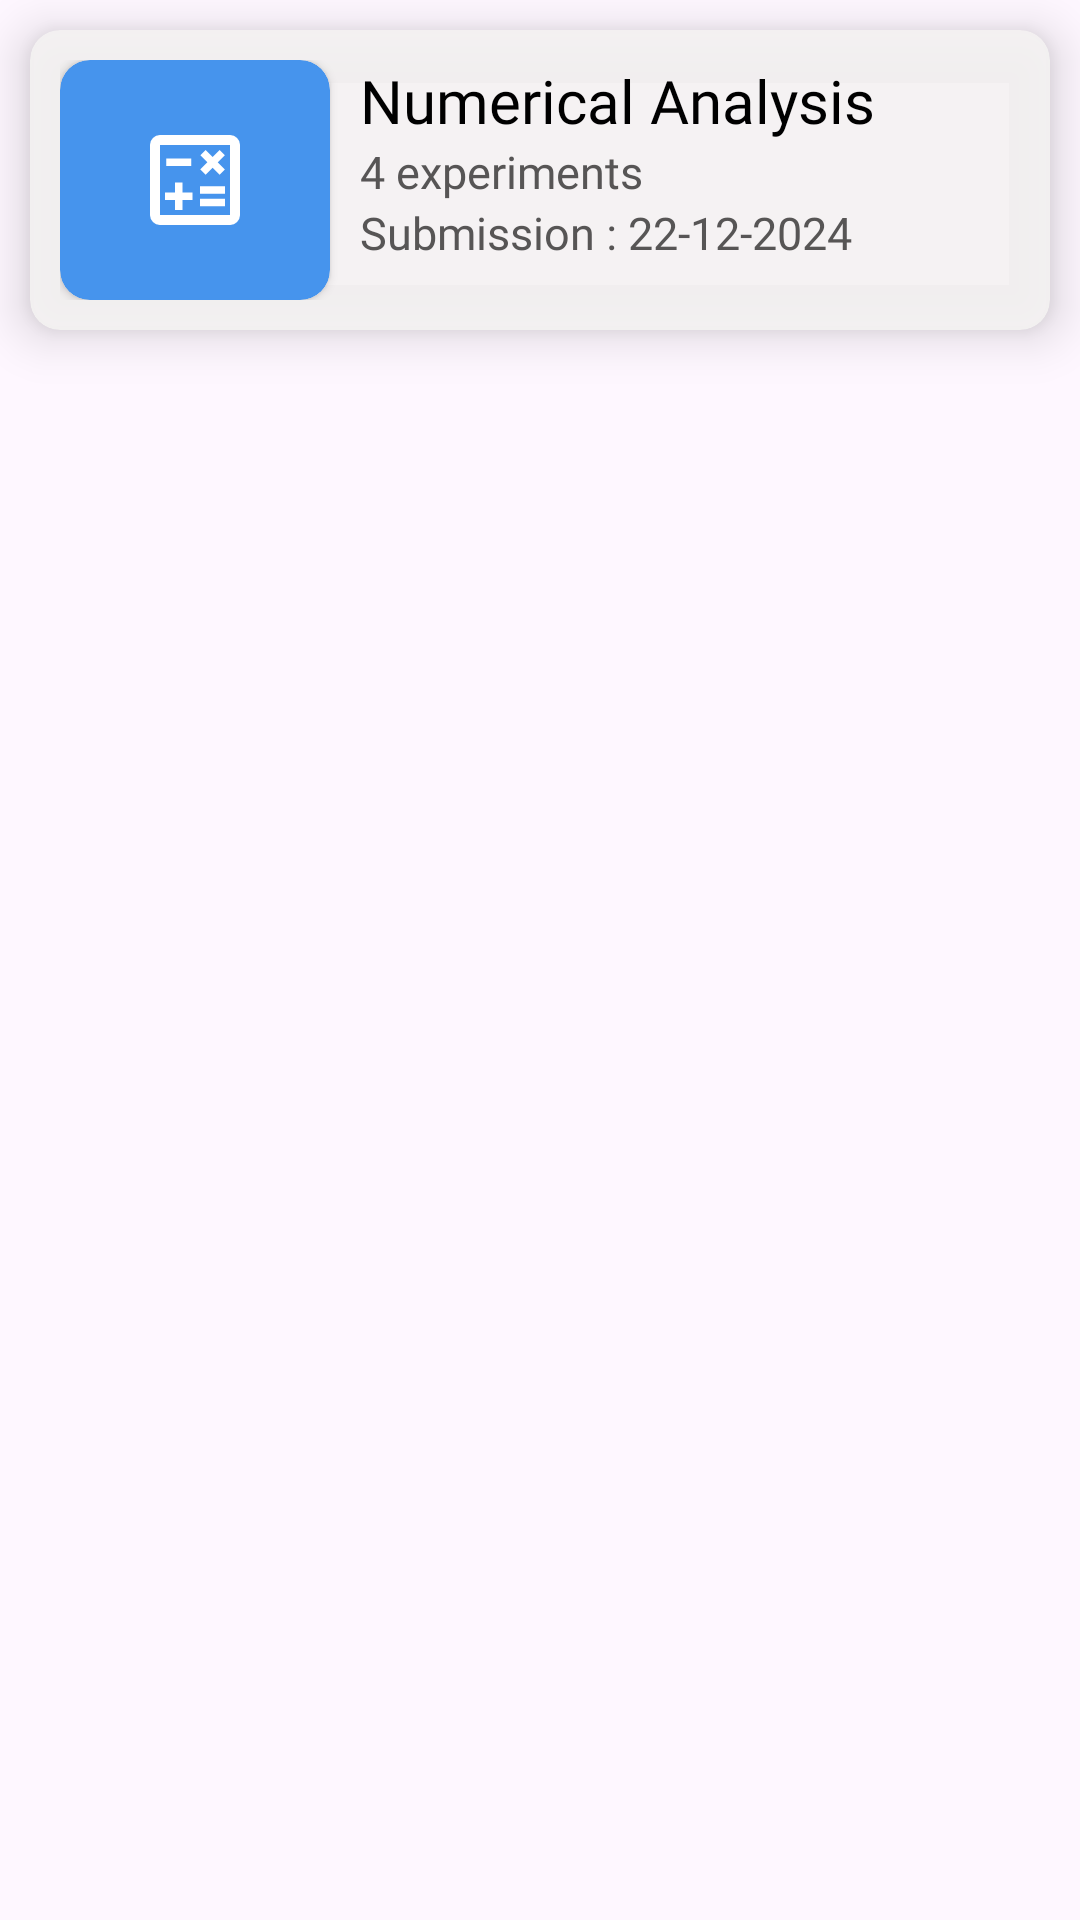

Icons on this 1080x1920 Android screen, each with the point to tap as [x,y]:
math subject: [195,180]
